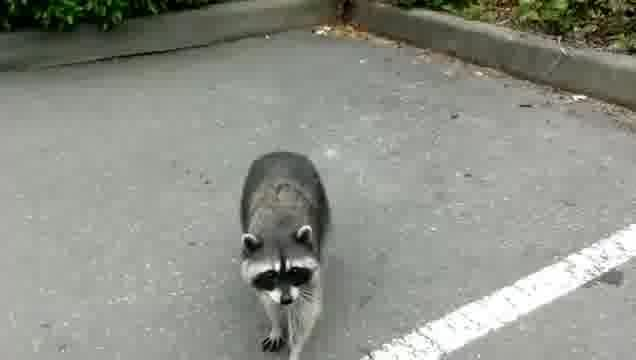raccoon: (238, 148, 336, 360)
